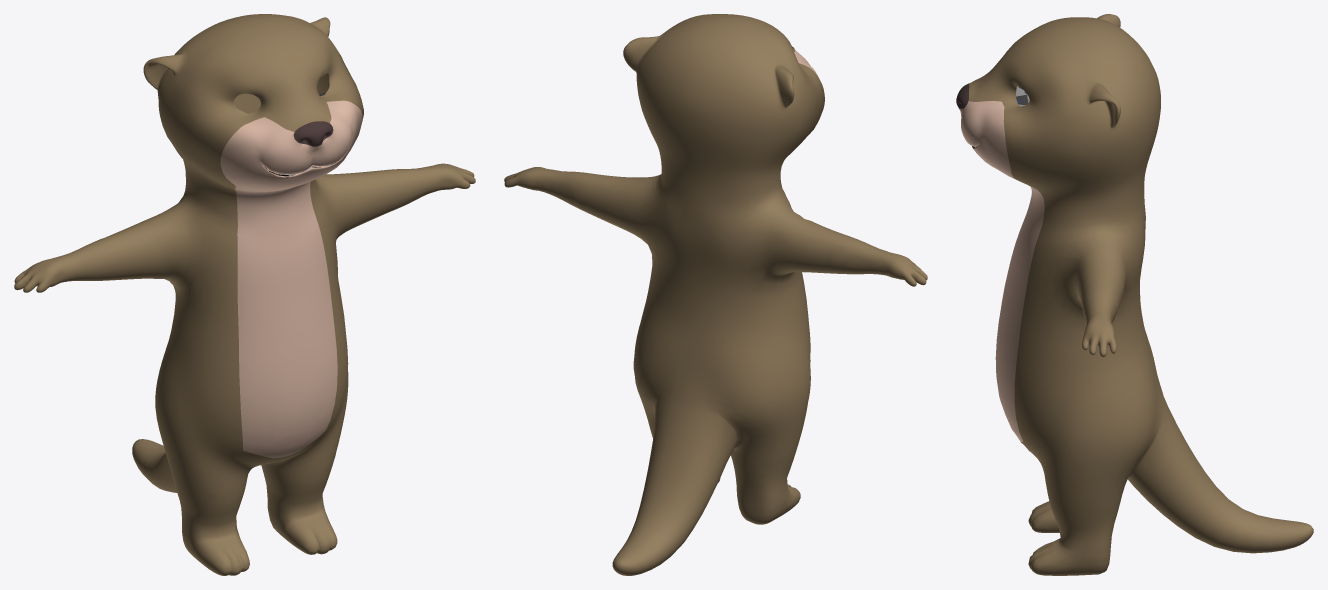
File: fur01.glb
3 renders of one model, left to right at view 1: azimuth 30°, elevation 25°; view 2: azimuth 150°, elevation 25°; view 3: azimuth 270°, elevation 25°, orthographic. The views are drawn at different scales.
Parts seen in each view (by area): view 1: BuddyBlau_low; view 2: BuddyBlau_low; view 3: BuddyBlau_low.
Part boxes in pixels (box(x1,y1,x2,y2)): BuddyBlau_low: box(14, 14, 475, 575); BuddyBlau_low: box(504, 14, 927, 575); BuddyBlau_low: box(956, 14, 1313, 575).
Bounding box in the file's own units: 1.52 × 1.66 × 1.03.
6 materials, 1 textured.
